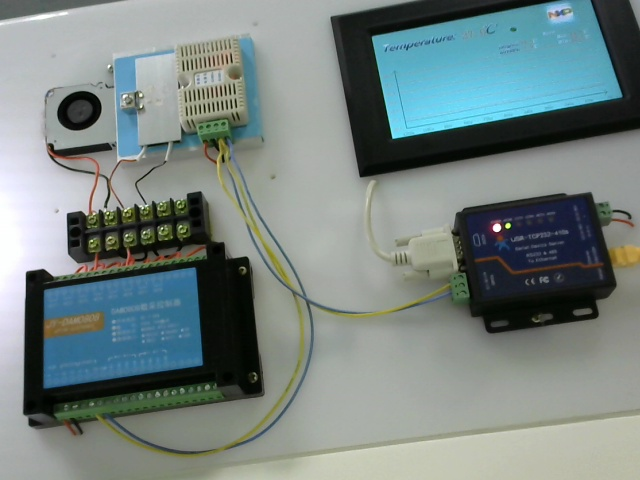fan: (38, 81, 118, 156)
heater: (134, 54, 187, 158)
modbus bridge: (449, 190, 625, 345)
relay: (21, 264, 275, 425)
termperature: (177, 43, 257, 136)
